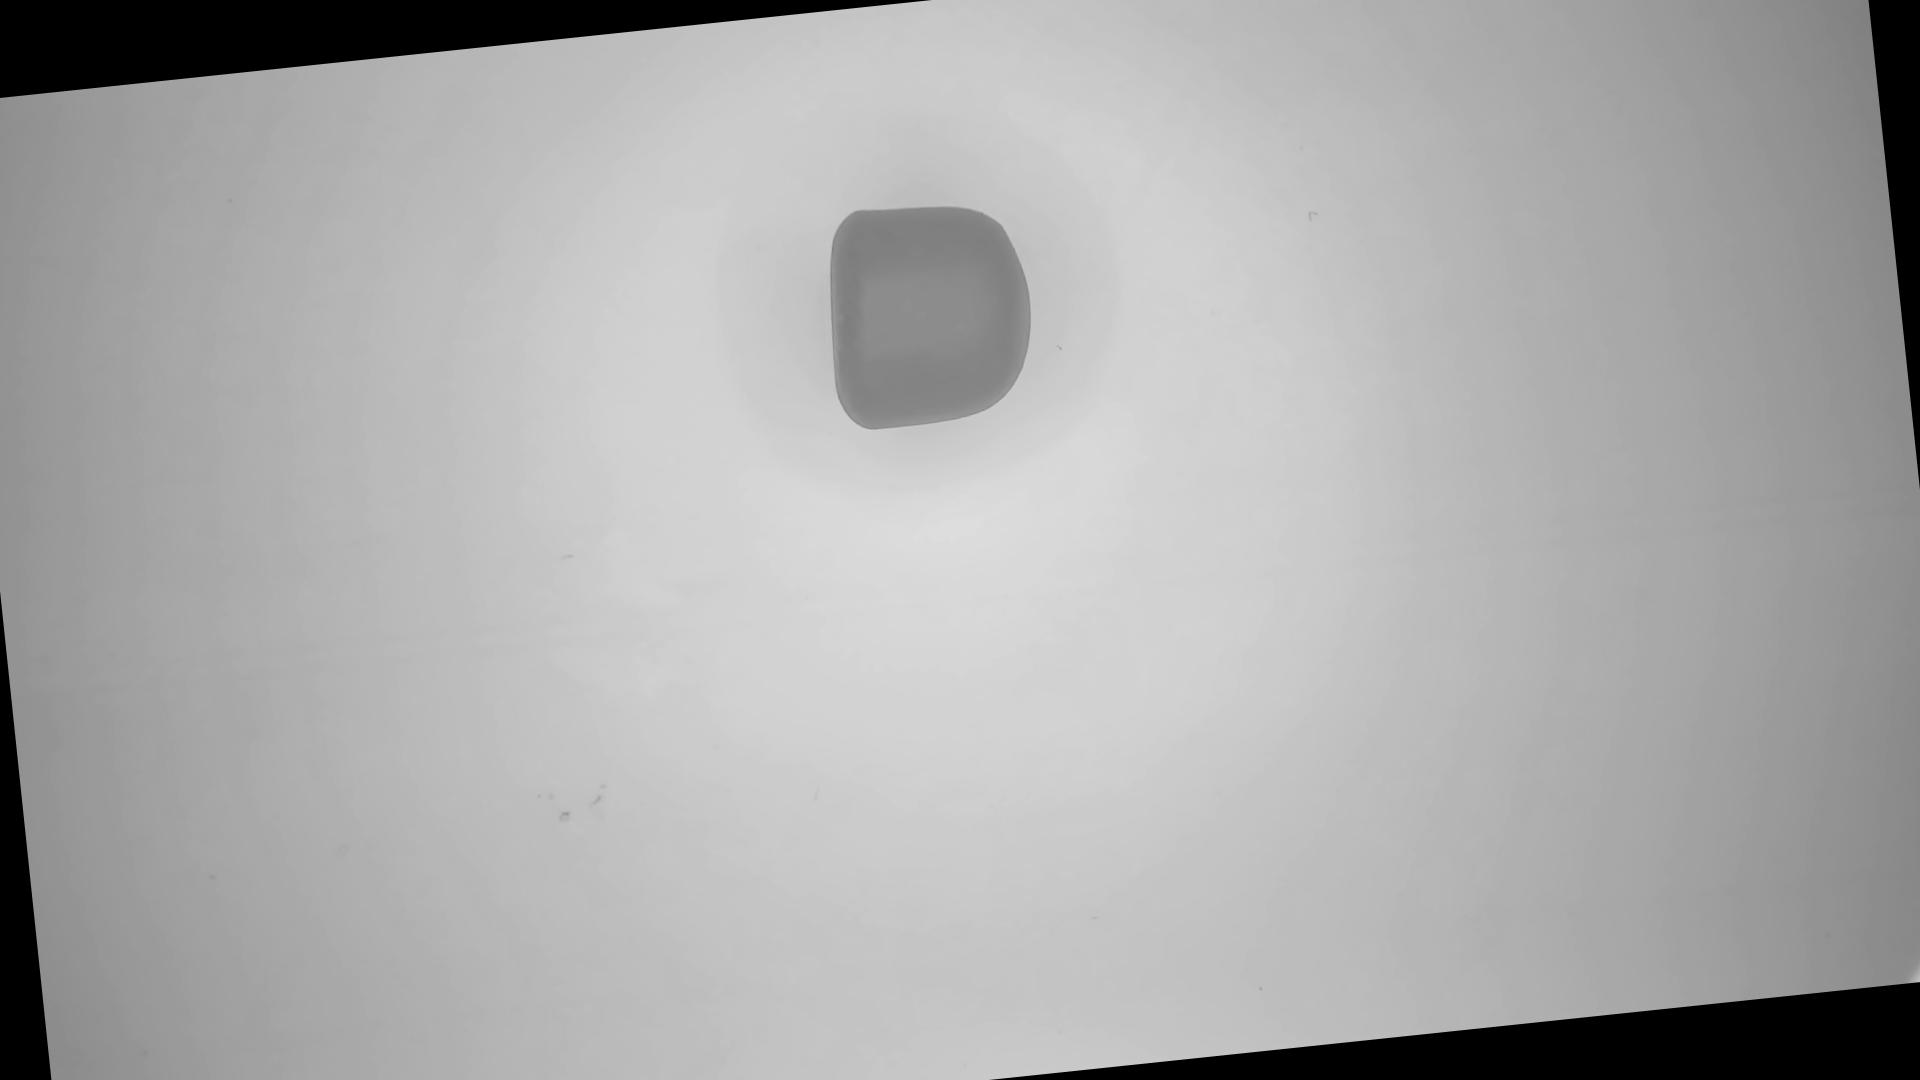normal: (819, 191, 1044, 436)
